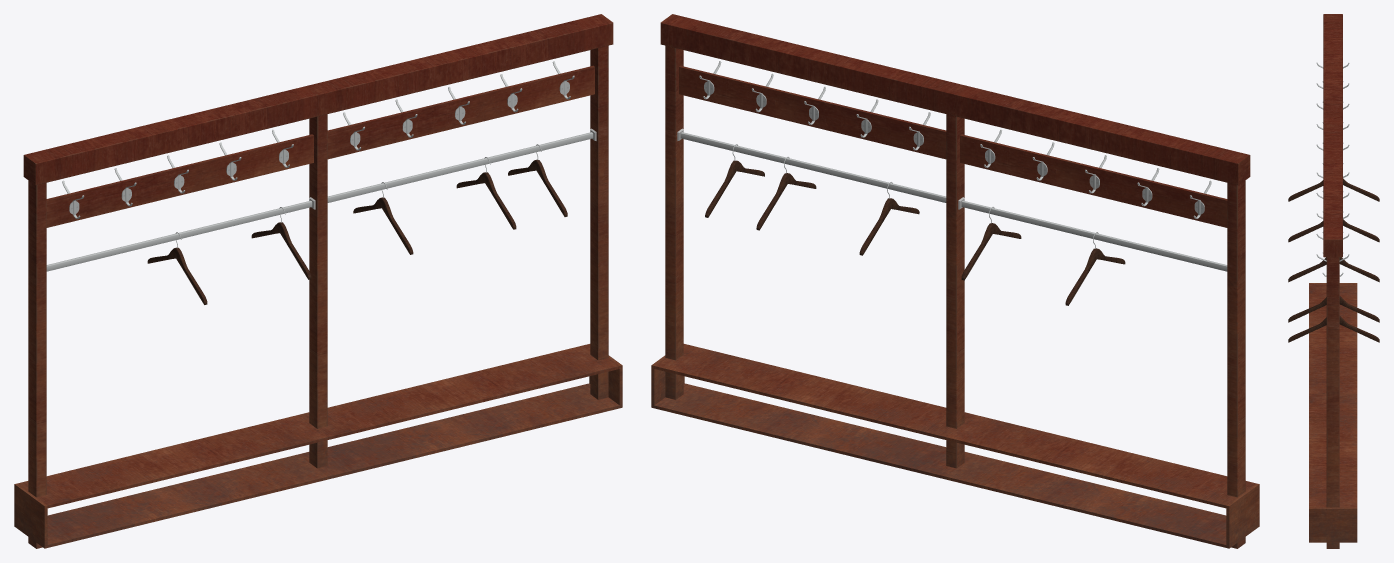
The model's file is Garderobe01_2.FBX.
The picture shows the model from 3 angles, left to right: view 1: azimuth 30°, elevation 25°; view 2: azimuth 150°, elevation 25°; view 3: azimuth 270°, elevation 25°; orthographic projection. The views are drawn at different scales.
Parts seen in each view (by area): view 1: Garderobe01_2, Hangers; view 2: Garderobe01_2, Hangers, Hangers2; view 3: Garderobe01_2, Hangers, Hangers2.
Part boxes in pixels (x1,y1,x2,y2): Garderobe01_2: (14, 14, 622, 548); Hangers: (147, 144, 567, 304); Garderobe01_2: (651, 14, 1259, 548); Hangers: (705, 144, 1125, 305); Hangers2: (699, 75, 1204, 218); Garderobe01_2: (1309, 14, 1357, 548); Hangers: (1288, 178, 1379, 342); Hangers2: (1339, 63, 1349, 276).
Size of the model in its own units: 3308 by 2120 by 566.
